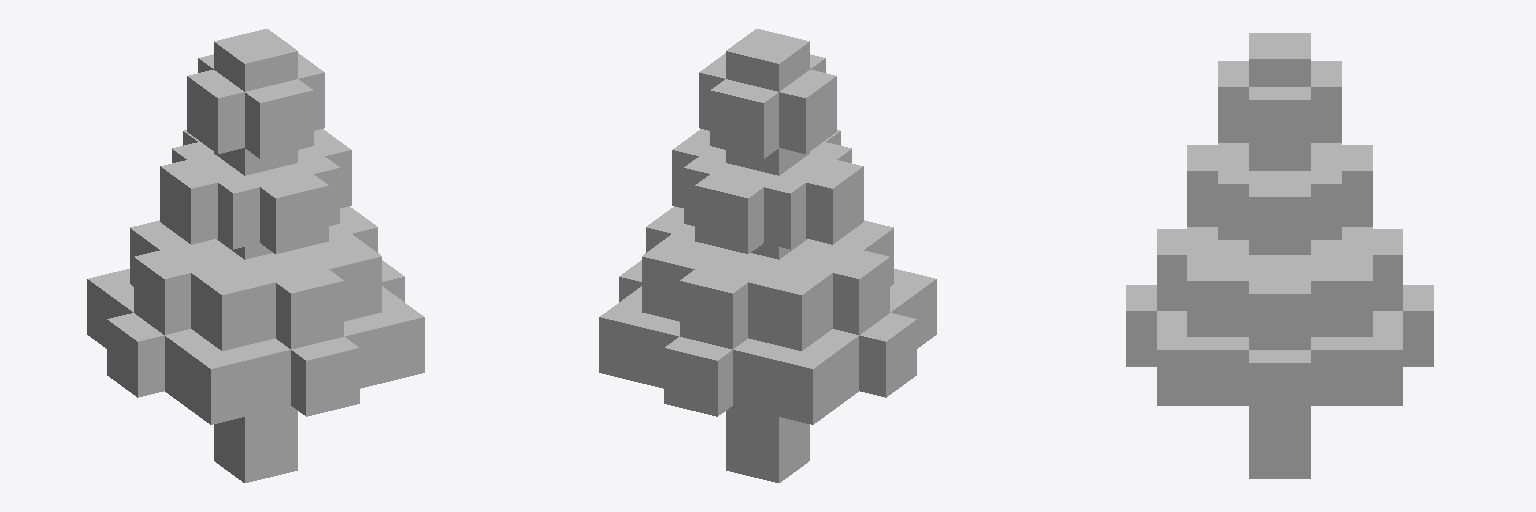
The model's file is Pinheiro 2.obj.
3 views of the same model, side by side, from view 1: azimuth 30°, elevation 25°; view 2: azimuth 150°, elevation 25°; view 3: azimuth 270°, elevation 25° (orthographic).
Parts seen in each view (by area): view 1: object 1; view 2: object 1; view 3: object 1.
Part boxes in pixels (x1,y1,x2,y2): object 1: (87,29,424,482); object 1: (599,29,936,482); object 1: (1126,33,1433,478).
Bounding box in the file's own units: 1 × 1.5 × 1.